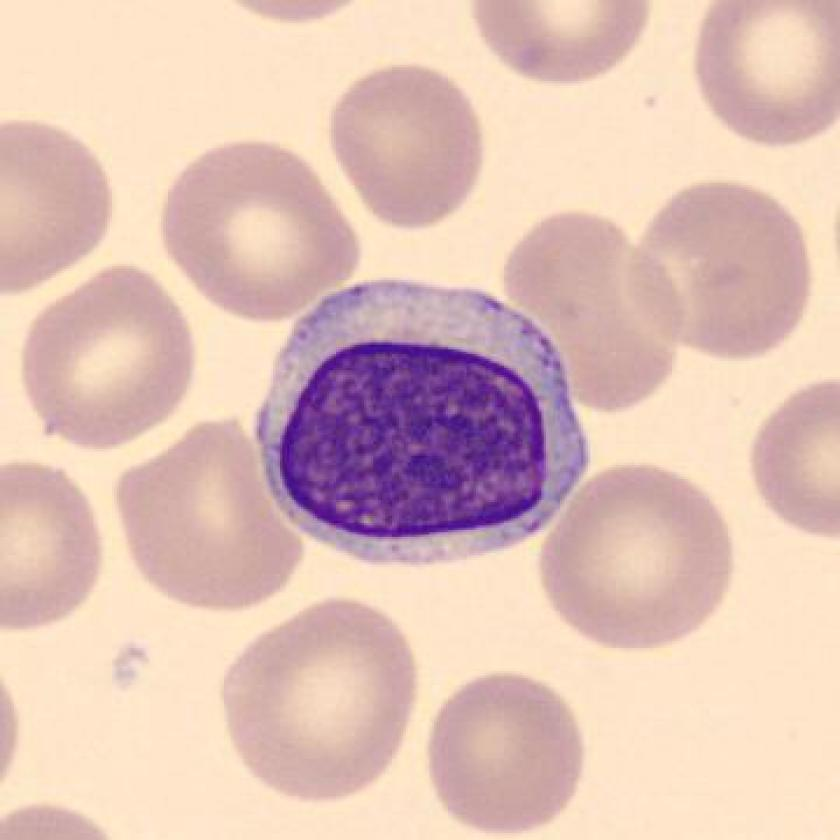lymphocyte: (237, 267, 605, 587)
